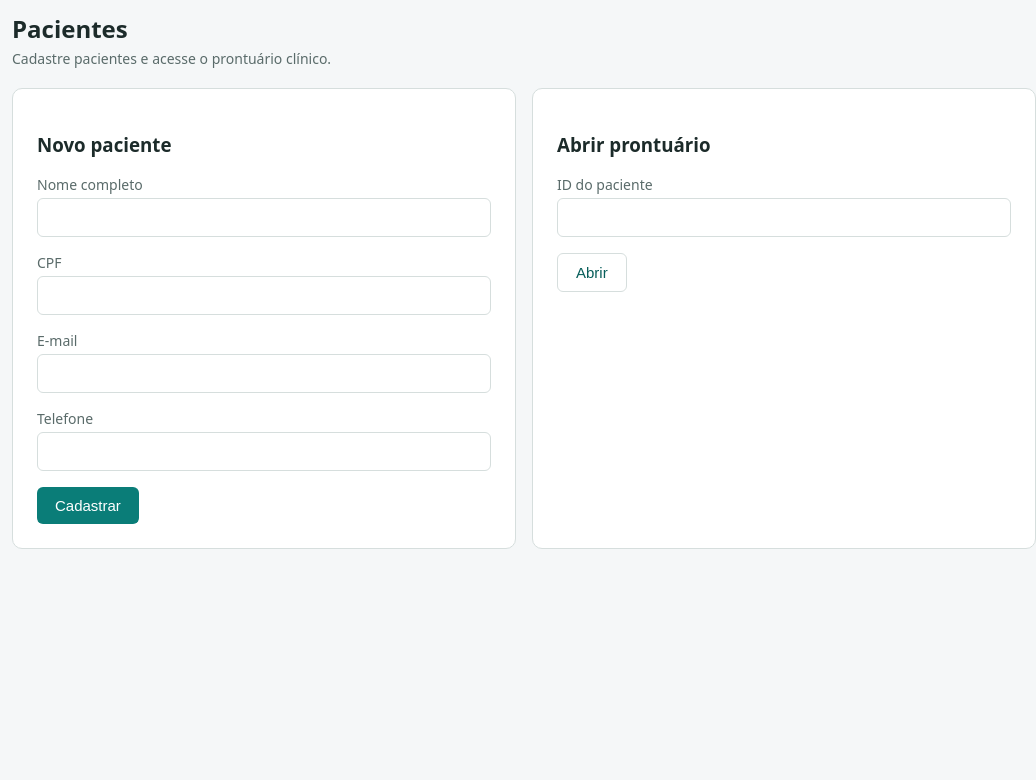
Scenario: PatientsPage › mostra mensagem de conflito quando o CPF ja existe
The width and height of the screenshot is (1036, 780).
Step 1. Type "Maria Silva" into the field labelled "Nome completo" → (264, 218), box [37,198,491,237]
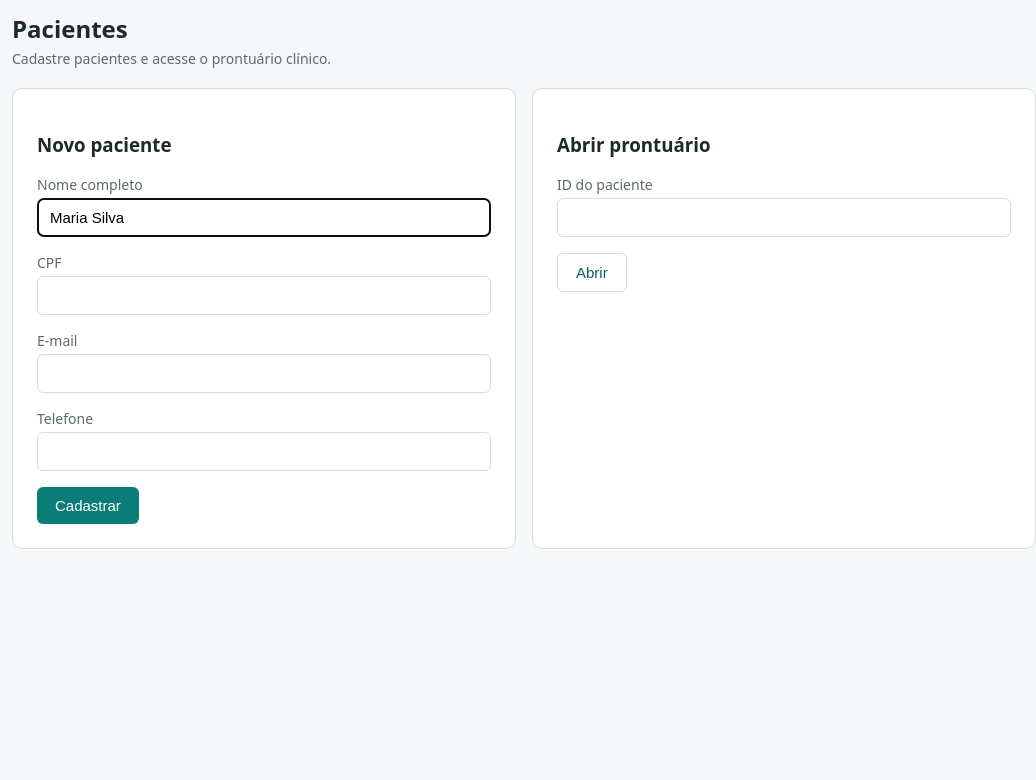
Step 2. Type "39053344705" into the field labelled "CPF" → (264, 296), box [37,276,491,315]
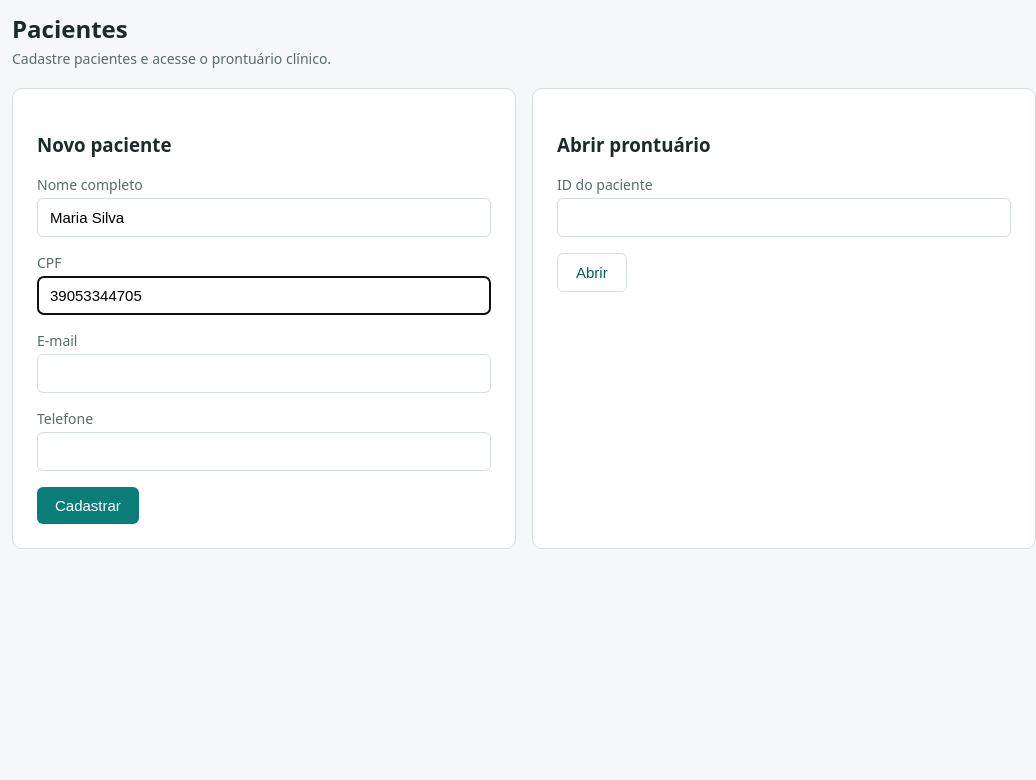
Step 3. Click the button "Cadastrar" → (88, 506), box [37,487,139,524]
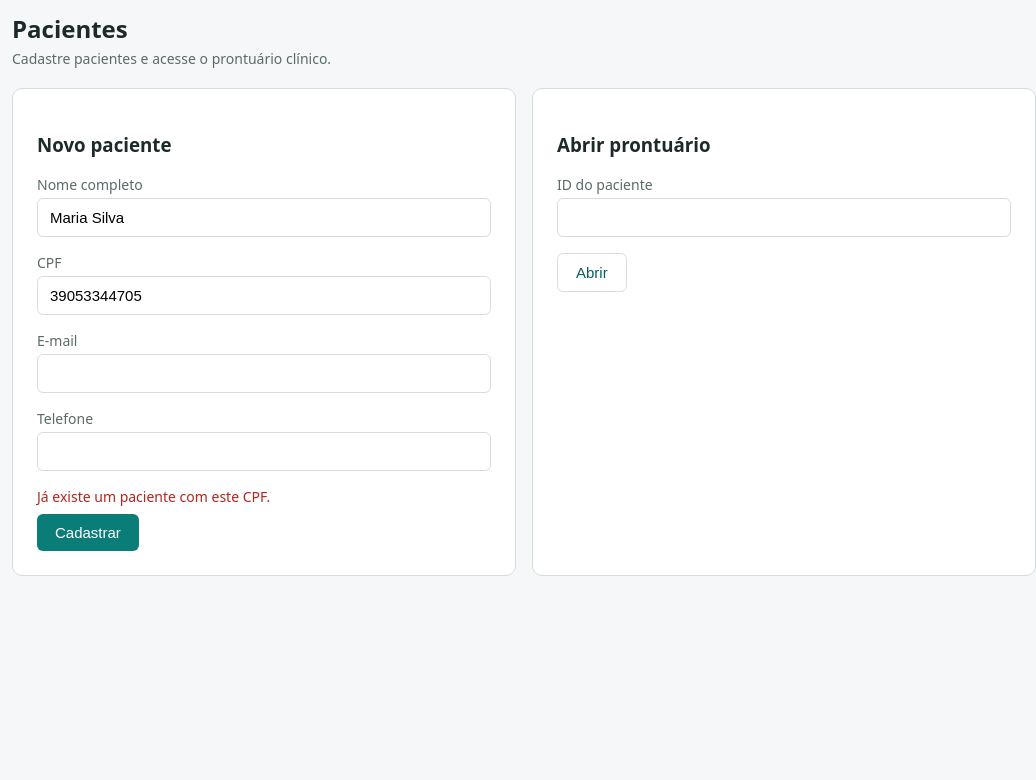
Expected: the text "Já existe um paciente com este CPF." is shown, [37,487,270,506]
